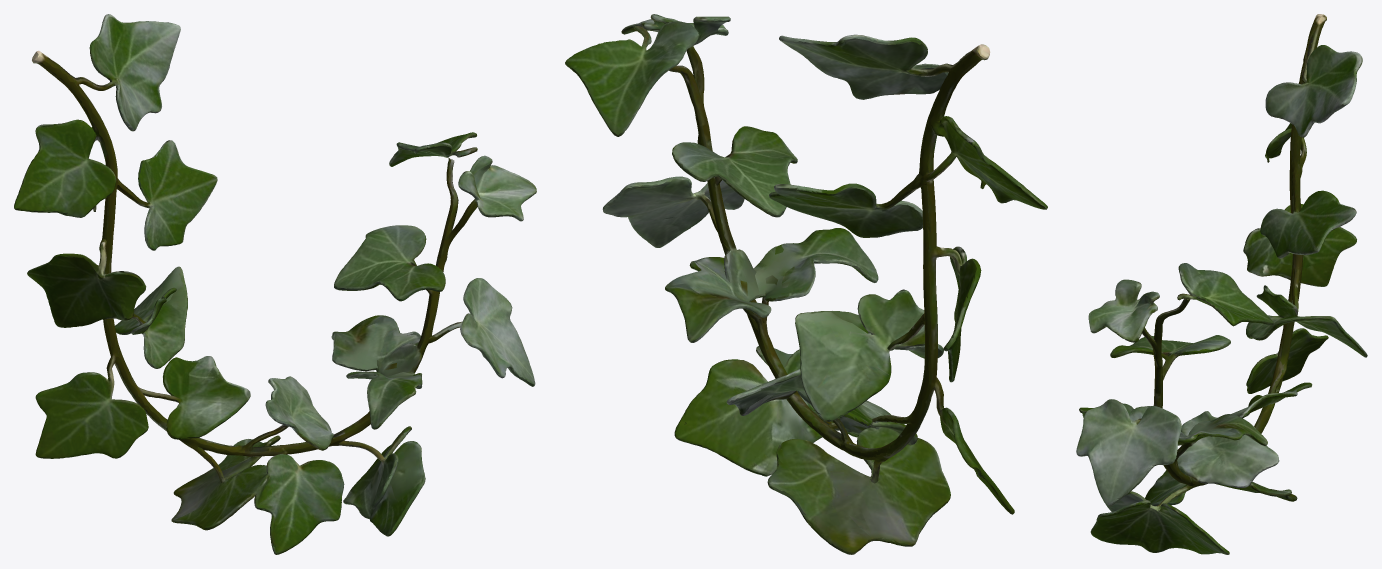
The model's file is lux-ivy.glb.
3 views of the same model, side by side, from view 1: azimuth 30°, elevation 25°; view 2: azimuth 150°, elevation 25°; view 3: azimuth 270°, elevation 25° (orthographic). The views are drawn at different scales.
Visible parts, largest first — view 1: geometry_0; view 2: geometry_0; view 3: geometry_0.
Boxes of the visible parts, <box> form: geometry_0: <box>14,14,536,554</box>; geometry_0: <box>565,14,1047,554</box>; geometry_0: <box>1076,14,1367,554</box>.
Bounding box in the file's own units: 0.8 × 0.8171 × 0.4979.
1 material, 1 textured.
